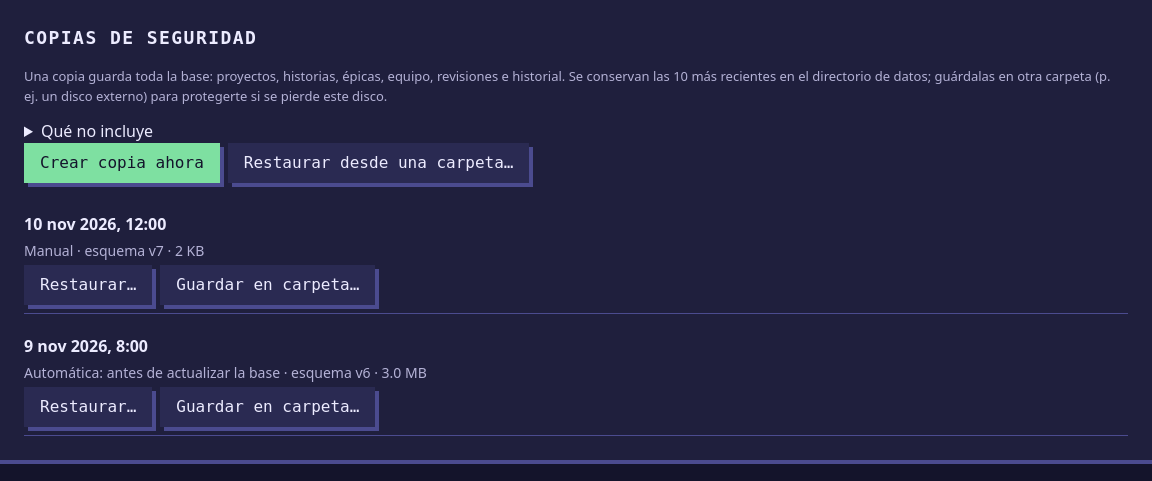
Scenario: BackupPanel › crea una copia y recarga la lista
Expected: the text "Manual · esquema v7 · 2 KB" is shown, [24,241,204,260]
Click the button "Crear copia ahora". click: (122, 163)
box: [24,143,220,183]
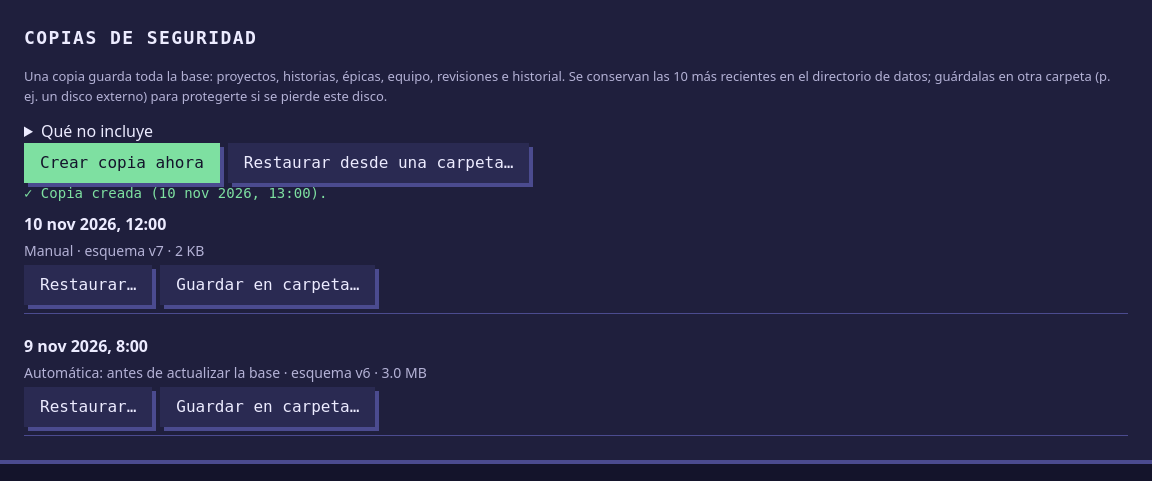
Now the message shows "✓ Copia creada", box [24,185,327,201]
